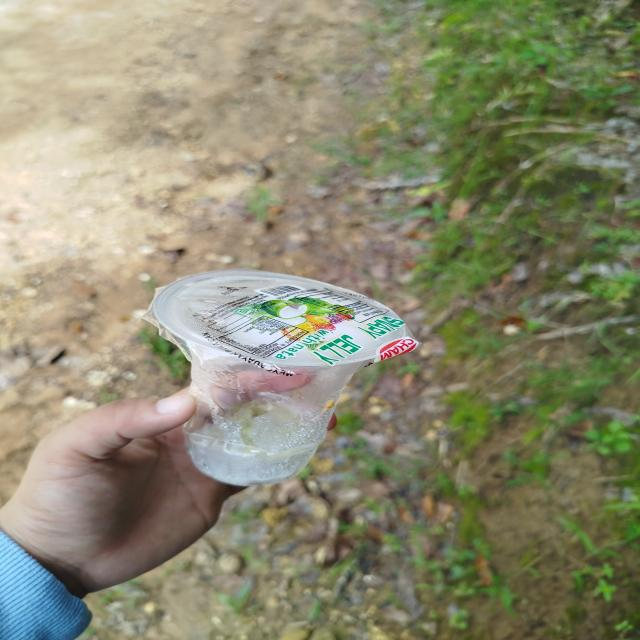plastic: (128, 247, 428, 494)
